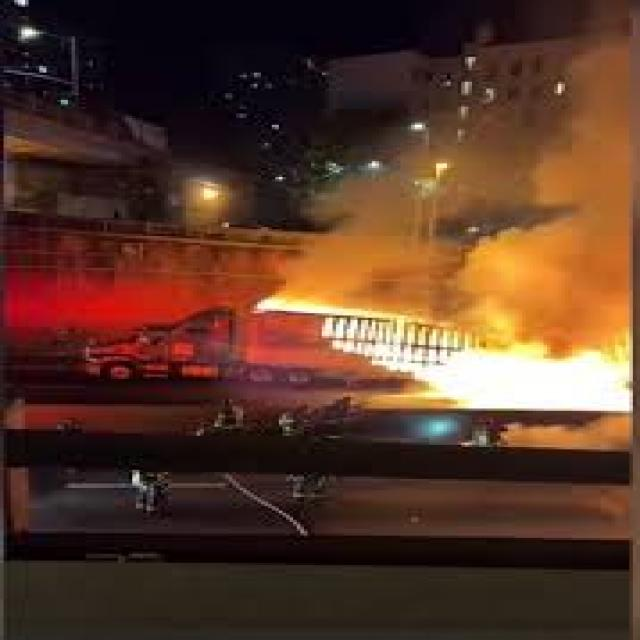fire: (257, 300, 640, 410)
smoke: (457, 9, 640, 338), (254, 130, 458, 300)
